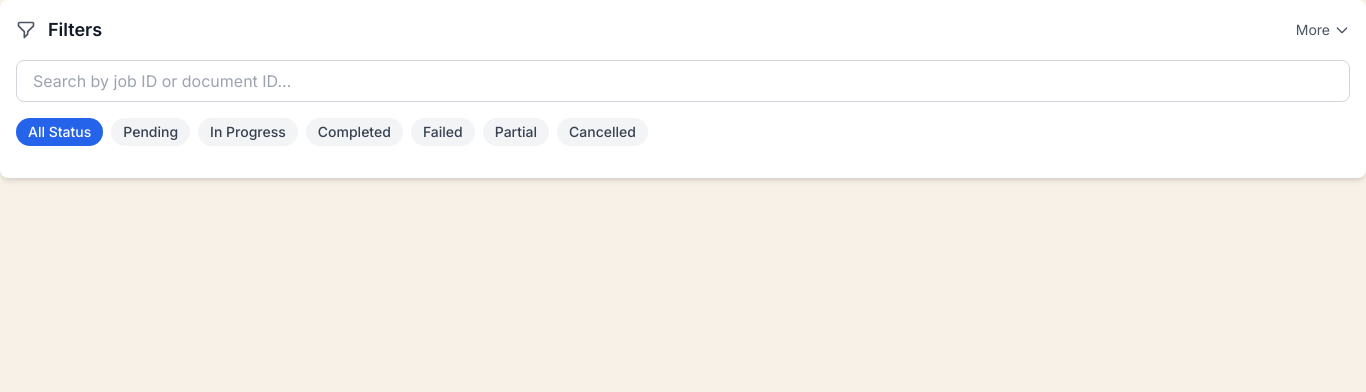
Test: AdvancedJobFilters › Expand/Collapse Functionality › should toggle to expanded view when More clicked
Click the button "More" at (1323, 30), box left=1296, top=20, right=1350, bottom=40
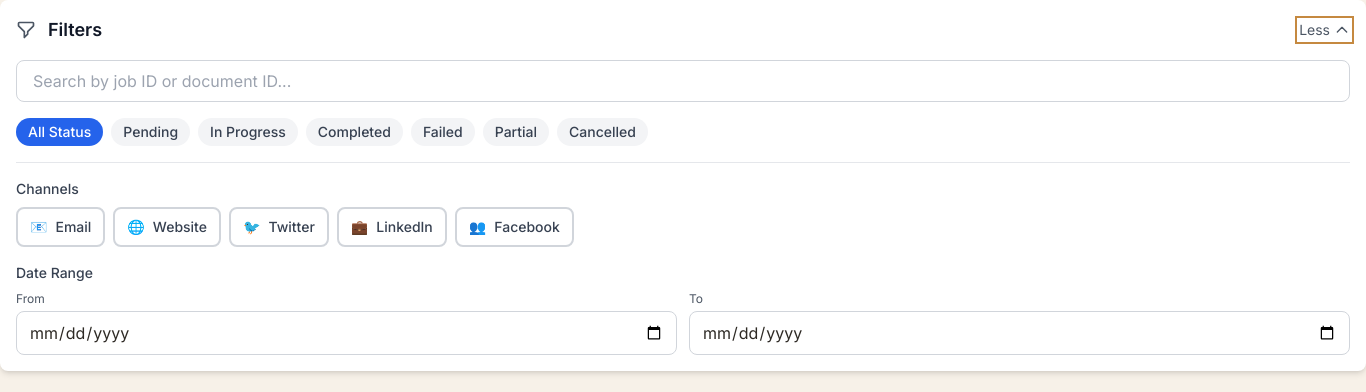
Check: the text "Channels" is shown, box left=16, top=180, right=79, bottom=197
Check: the text "Date Range" is shown, box left=16, top=264, right=93, bottom=281
